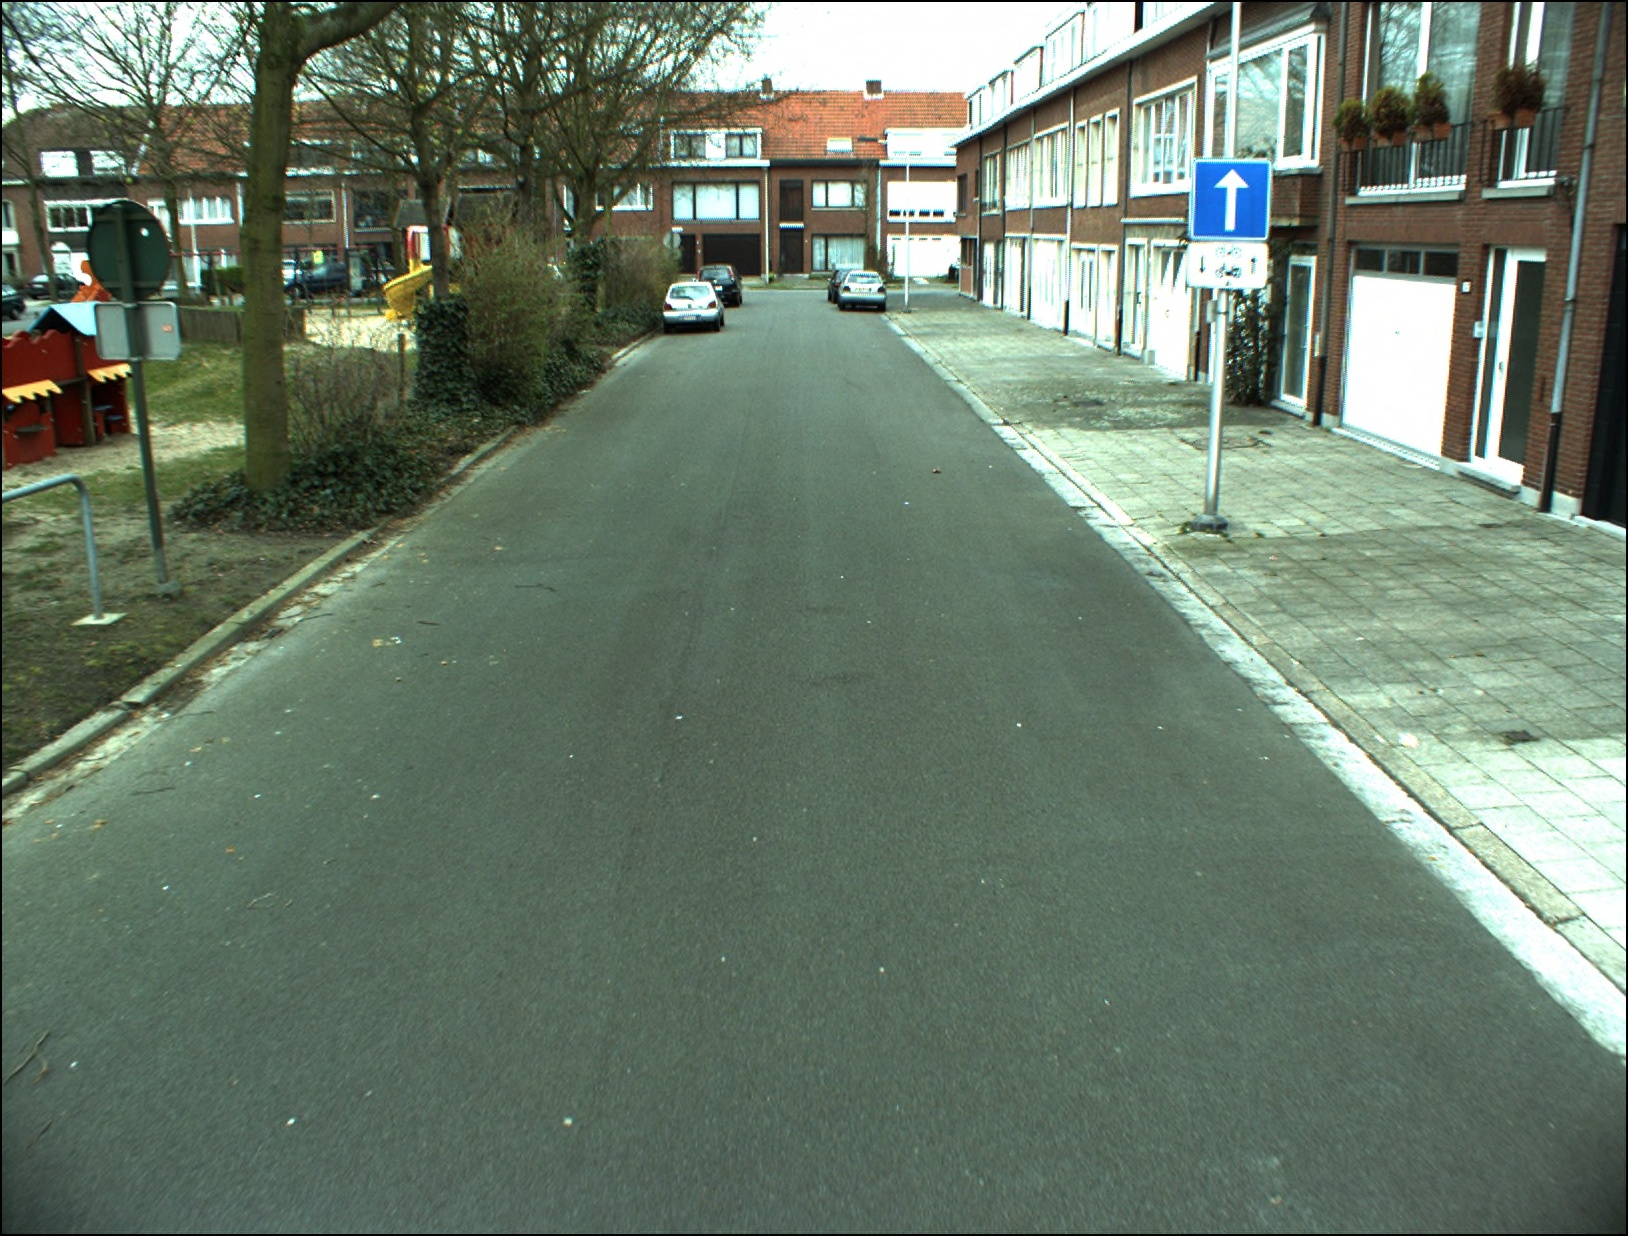oneway: (1190, 158, 1270, 240)
